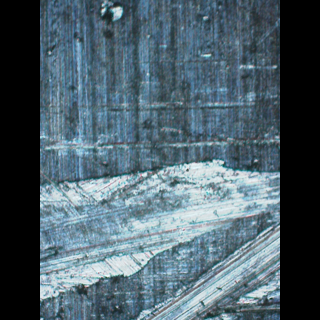d: (40, 151, 278, 319), (94, 0, 128, 37)
